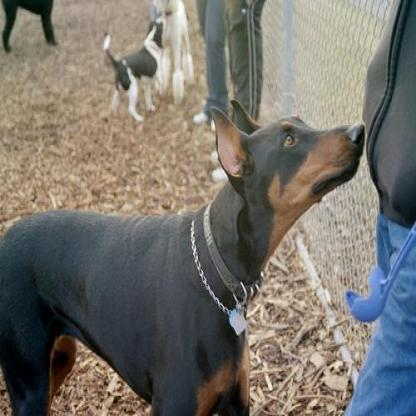Doberman: (0, 94, 366, 412)
